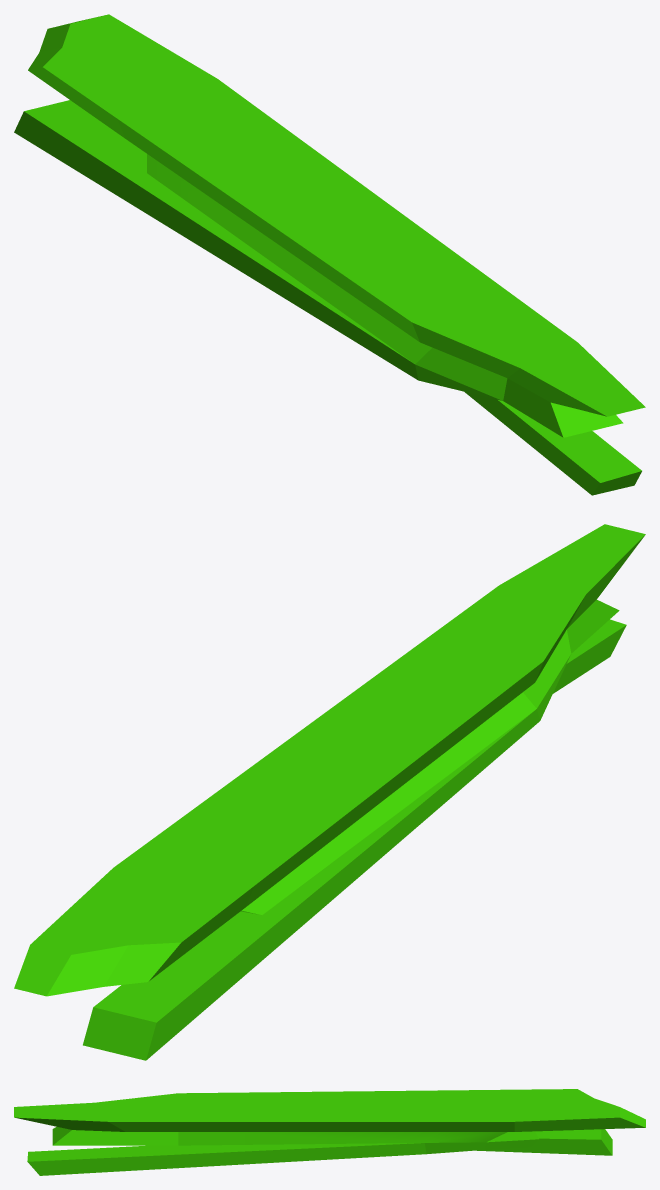
File: long bridge rework.fbx
3 renders of one model, top to bottom at view 1: azimuth 30°, elevation 25°; view 2: azimuth 150°, elevation 25°; view 3: azimuth 270°, elevation 25°, orthographic. The views are drawn at different scales.
Visible parts, largest first — view 1: Long_Bridge_rework_notwalk; view 2: Long_Bridge_rework_notwalk; view 3: Long_Bridge_rework_notwalk.
Boxes of the visible parts, bbox=[...] form: Long_Bridge_rework_notwalk: bbox=[14, 14, 645, 495]; Long_Bridge_rework_notwalk: bbox=[14, 524, 645, 1060]; Long_Bridge_rework_notwalk: bbox=[14, 1089, 645, 1175].
Size of the model in its own units: 304 by 241 by 2472.
